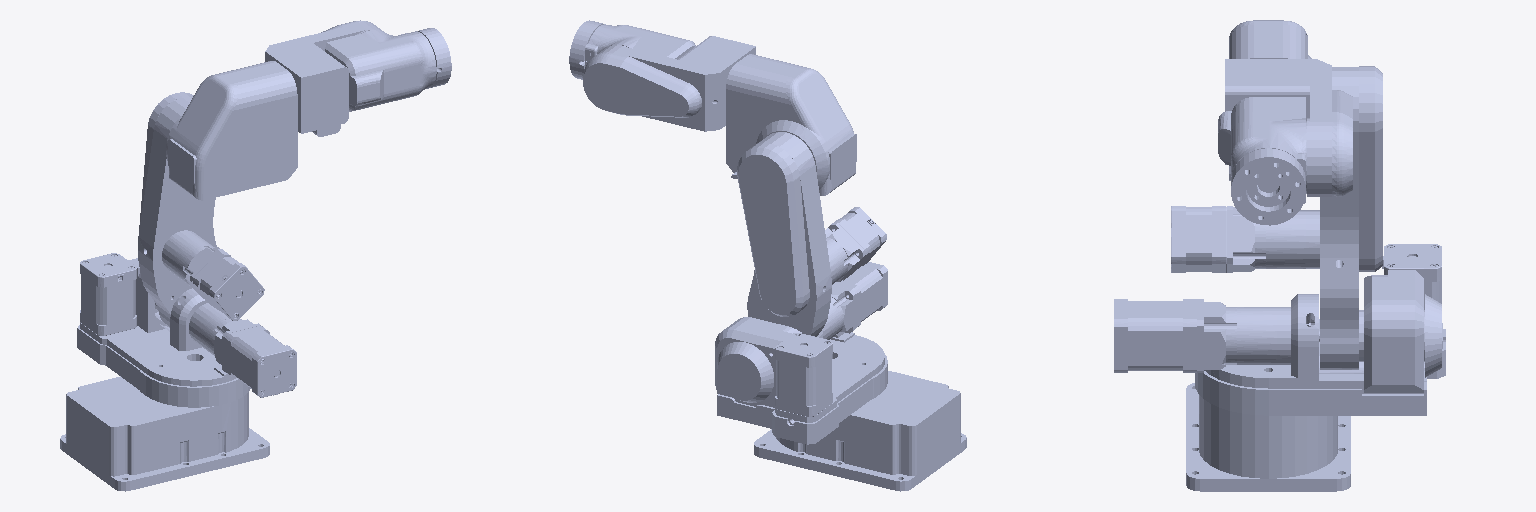
URDF robot description (par6_flange):
<?xml version="1.0" encoding="utf-8"?>
<!-- This URDF was automatically created by SolidWorks to URDF Exporter! Originally created by Stephen Brawner (brawner@gmail.com) 
     Commit Version: 1.6.0-4-g7f85cfe  Build Version: 1.6.7995.38578
     For more information, please see http://wiki.ros.org/sw_urdf_exporter -->
<robot
  name="par6_flange">
  <link
    name="base_link">
    <inertial>
      <origin
        xyz="-0.03291842362796 -3.9760226777652E-09 0.0314011608034117"
        rpy="0 0 0" />
      <mass
        value="0.998265338800333" />
      <inertia
        ixx="0.00118949401625524"
        ixy="-3.53594527704034E-12"
        ixz="-5.94924049151936E-05"
        iyy="0.00238159101024826"
        iyz="-6.16822652141328E-11"
        izz="0.00282485466366564" />
    </inertial>
    <visual>
      <origin
        xyz="0 0 0"
        rpy="0 0 0" />
      <geometry>
        <mesh
          filename="package://par6_flange/meshes/base_link.STL" />
      </geometry>
      <material
        name="">
        <color
          rgba="0.792156862745098 0.819607843137255 0.933333333333333 1" />
      </material>
    </visual>
    <collision>
      <origin
        xyz="0 0 0"
        rpy="0 0 0" />
      <geometry>
        <mesh
          filename="package://par6_flange/meshes/base_link.STL" />
      </geometry>
    </collision>
  </link>
  <link
    name="shoulder">
    <inertial>
      <origin
        xyz="0.00656811939881225 0.029093538967332 0.099551347543143"
        rpy="0 0 0" />
      <mass
        value="0.620900499130961" />
      <inertia
        ixx="0.00100663738746705"
        ixy="-6.26580888440265E-05"
        ixz="-5.94906456216179E-05"
        iyy="0.000546947368013689"
        iyz="-0.000133114961306643"
        izz="0.00119083362934585" />
    </inertial>
    <visual>
      <origin
        xyz="0 0 0"
        rpy="0 0 0" />
      <geometry>
        <mesh
          filename="package://par6_flange/meshes/shoulder.STL" />
      </geometry>
      <material
        name="">
        <color
          rgba="0.792156862745098 0.819607843137255 0.933333333333333 1" />
      </material>
    </visual>
    <collision>
      <origin
        xyz="0 0 0"
        rpy="0 0 0" />
      <geometry>
        <mesh
          filename="package://par6_flange/meshes/shoulder.STL" />
      </geometry>
    </collision>
  </link>
  <joint
    name="shoulder_JOINT"
    type="revolute">
    <origin
      xyz="0 0 0"
      rpy="0 0 0" />
    <parent
      link="base_link" />
    <child
      link="shoulder" />
    <axis
      xyz="0 0 -1" />
    <limit
      lower="0"
      upper="0"
      effort="0"
      velocity="0" />
  </joint>
  <link
    name="upper_arm">
    <inertial>
      <origin
        xyz="-0.00854934366236464 -0.071342142449425 0.0416391335881913"
        rpy="0 0 0" />
      <mass
        value="0.564255649327409" />
      <inertia
        ixx="0.00161401505877108"
        ixy="-2.37624134871021E-05"
        ixz="-1.23771305810394E-05"
        iyy="0.000283296701166046"
        iyz="-0.000134635985563592"
        izz="0.00163917151493148" />
    </inertial>
    <visual>
      <origin
        xyz="0 0 0"
        rpy="0 0 0" />
      <geometry>
        <mesh
          filename="package://par6_flange/meshes/upper_arm.STL" />
      </geometry>
      <material
        name="">
        <color
          rgba="0.792156862745098 0.819607843137255 0.933333333333333 1" />
      </material>
    </visual>
    <collision>
      <origin
        xyz="0 0 0"
        rpy="0 0 0" />
      <geometry>
        <mesh
          filename="package://par6_flange/meshes/upper_arm.STL" />
      </geometry>
    </collision>
  </link>
  <joint
    name="upper_arm_JOINT"
    type="revolute">
    <origin
      xyz="0.0234207210610365 0 0.1105"
      rpy="-1.5707963267949 0 0" />
    <parent
      link="shoulder" />
    <child
      link="upper_arm" />
    <axis
      xyz="0 0 1" />
    <limit
      lower="0"
      upper="0"
      effort="0"
      velocity="0" />
  </joint>
  <link
    name="elbow">
    <inertial>
      <origin
        xyz="0.0155509885239581 -0.0191127686426632 -0.00153322577917242"
        rpy="0 0 0" />
      <mass
        value="0.550970997806044" />
      <inertia
        ixx="0.00057827573271994"
        ixy="0.000116505232322314"
        ixz="-1.19955293256511E-05"
        iyy="0.0005670116769447"
        iyz="1.5581425503602E-05"
        izz="0.000815862001506842" />
    </inertial>
    <visual>
      <origin
        xyz="0 0 0"
        rpy="0 0 0" />
      <geometry>
        <mesh
          filename="package://par6_flange/meshes/elbow.STL" />
      </geometry>
      <material
        name="">
        <color
          rgba="0.792156862745098 0.819607843137255 0.933333333333333 1" />
      </material>
    </visual>
    <collision>
      <origin
        xyz="0 0 0"
        rpy="0 0 0" />
      <geometry>
        <mesh
          filename="package://par6_flange/meshes/elbow.STL" />
      </geometry>
    </collision>
  </link>
  <joint
    name="elbow_JOINT"
    type="revolute">
    <origin
      xyz="0 -0.18 0"
      rpy="3.14159265358979 0 -1.5707963267949" />
    <parent
      link="upper_arm" />
    <child
      link="elbow" />
    <axis
      xyz="0 0 -1" />
    <limit
      lower="0"
      upper="0"
      effort="0"
      velocity="0" />
  </joint>
  <link
    name="lower_arm">
    <inertial>
      <origin
        xyz="0.00052733545462913 -0.0101658497051341 -0.0925926618710992"
        rpy="0 0 0" />
      <mass
        value="0.382768168076153" />
      <inertia
        ixx="0.000383809752758758"
        ixy="-5.71777005742453E-06"
        ixz="-1.13435862343092E-06"
        iyy="0.000324613577491975"
        iyz="-6.48194702731559E-05"
        izz="0.000252488975982478" />
    </inertial>
    <visual>
      <origin
        xyz="0 0 0"
        rpy="0 0 0" />
      <geometry>
        <mesh
          filename="package://par6_flange/meshes/lower_arm.STL" />
      </geometry>
      <material
        name="">
        <color
          rgba="0.792156862745098 0.819607843137255 0.933333333333333 1" />
      </material>
    </visual>
    <collision>
      <origin
        xyz="0 0 0"
        rpy="0 0 0" />
      <geometry>
        <mesh
          filename="package://par6_flange/meshes/lower_arm.STL" />
      </geometry>
    </collision>
  </link>
  <joint
    name="lower_arm_JOINT"
    type="revolute">
    <origin
      xyz="0.0434999999999984 0 0"
      rpy="1.5707963267949 0 -3.14159265358979" />
    <parent
      link="elbow" />
    <child
      link="lower_arm" />
    <axis
      xyz="0 0 -1" />
    <limit
      lower="0"
      upper="0"
      effort="0"
      velocity="0" />
  </joint>
  <link
    name="wrist">
    <inertial>
      <origin
        xyz="-1.54606600299978E-06 -0.00314847566621396 0.000193929742576593"
        rpy="0 0 0" />
      <mass
        value="0.230864625594321" />
      <inertia
        ixx="0.00018082969543415"
        ixy="-4.63392548734812E-10"
        ixz="-6.79284338617314E-09"
        iyy="0.000106212288444716"
        iyz="2.87958450952461E-06"
        izz="0.000175598200731164" />
    </inertial>
    <visual>
      <origin
        xyz="0 0 0"
        rpy="0 0 0" />
      <geometry>
        <mesh
          filename="package://par6_flange/meshes/wrist.STL" />
      </geometry>
      <material
        name="">
        <color
          rgba="0.792156862745098 0.819607843137255 0.933333333333333 1" />
      </material>
    </visual>
    <collision>
      <origin
        xyz="0 0 0"
        rpy="0 0 0" />
      <geometry>
        <mesh
          filename="package://par6_flange/meshes/wrist.STL" />
      </geometry>
    </collision>
  </link>
  <joint
    name="wrist_JOINT"
    type="revolute">
    <origin
      xyz="0 0 -0.177000000000002"
      rpy="-1.57079632679489 0 0" />
    <parent
      link="lower_arm" />
    <child
      link="wrist" />
    <axis
      xyz="0 0 1" />
    <limit
      lower="0"
      upper="0"
      effort="0"
      velocity="0" />
  </joint>
  <link
    name="gripper">
    <inertial>
      <origin
        xyz="-6.28287090892465E-05 6.96476392843537E-05 -0.0490534784184994"
        rpy="0 0 0" />
      <mass
        value="0.024635742513522" />
      <inertia
        ixx="5.90242323471309E-06"
        ixy="2.35508451621105E-08"
        ixz="1.84095312865299E-08"
        iyy="6.06157538333085E-06"
        iyz="9.37735630145885E-10"
        izz="1.10660922067779E-05" />
    </inertial>
    <visual>
      <origin
        xyz="0 0 0"
        rpy="0 0 0" />
      <geometry>
        <mesh
          filename="package://par6_flange/meshes/gripper.STL" />
      </geometry>
      <material
        name="">
        <color
          rgba="0.792156862745098 0.819607843137255 0.933333333333333 1" />
      </material>
    </visual>
    <collision>
      <origin
        xyz="0 0 0"
        rpy="0 0 0" />
      <geometry>
        <mesh
          filename="package://par6_flange/meshes/gripper.STL" />
      </geometry>
    </collision>
  </link>
  <joint
    name="gripper_JOINT"
    type="revolute">
    <origin
      xyz="0 0 0"
      rpy="1.5707963267949 0 0" />
    <parent
      link="wrist" />
    <child
      link="gripper" />
    <axis
      xyz="0 0 -1" />
    <limit
      lower="0"
      upper="0"
      effort="0"
      velocity="0" />
  </joint>
</robot>

--- What the picture shows (computed from the rendered views, not written in the file) ---
3 views of the same robot in one strip: view 1: azimuth 30°, elevation 25°; view 2: azimuth 150°, elevation 25°; view 3: azimuth 270°, elevation 25° (orthographic).
Model par6_flange with 7 links and 6 joints (6 revolute), rooted at base_link, posed all joints at 0.
Visible links, largest first — view 1: shoulder, base_link, elbow, upper_arm, wrist, lower_arm, gripper; view 2: upper_arm, shoulder, base_link, elbow, lower_arm, wrist, gripper; view 3: shoulder, upper_arm, base_link, lower_arm, wrist, gripper, elbow.
Link boxes in pixels (x1=…): shoulder: x1=77, y1=253, x2=296, y2=407; base_link: x1=60, y1=376, x2=269, y2=491; elbow: x1=166, y1=61, x2=297, y2=200; upper_arm: x1=138, y1=92, x2=264, y2=327; wrist: x1=325, y1=30, x2=436, y2=111; lower_arm: x1=265, y1=20, x2=383, y2=136; gripper: x1=418, y1=28, x2=451, y2=87; upper_arm: x1=717, y1=132, x2=886, y2=402; shoulder: x1=715, y1=262, x2=887, y2=444; base_link: x1=754, y1=371, x2=966, y2=491; elbow: x1=726, y1=54, x2=856, y2=195; lower_arm: x1=583, y1=36, x2=755, y2=131; wrist: x1=585, y1=24, x2=695, y2=66; gripper: x1=569, y1=20, x2=603, y2=79; shoulder: x1=1114, y1=244, x2=1445, y2=415; upper_arm: x1=1171, y1=66, x2=1441, y2=377; base_link: x1=1186, y1=319, x2=1350, y2=491; lower_arm: x1=1225, y1=59, x2=1352, y2=196; wrist: x1=1218, y1=97, x2=1305, y2=203; gripper: x1=1231, y1=148, x2=1305, y2=225; elbow: x1=1229, y1=20, x2=1311, y2=180.
Size in the robot's own frame: 0.3712 by 0.2382 by 0.3625 metres.
7 mesh visuals loaded from 7 distinct referenced files (7 binary STL).
